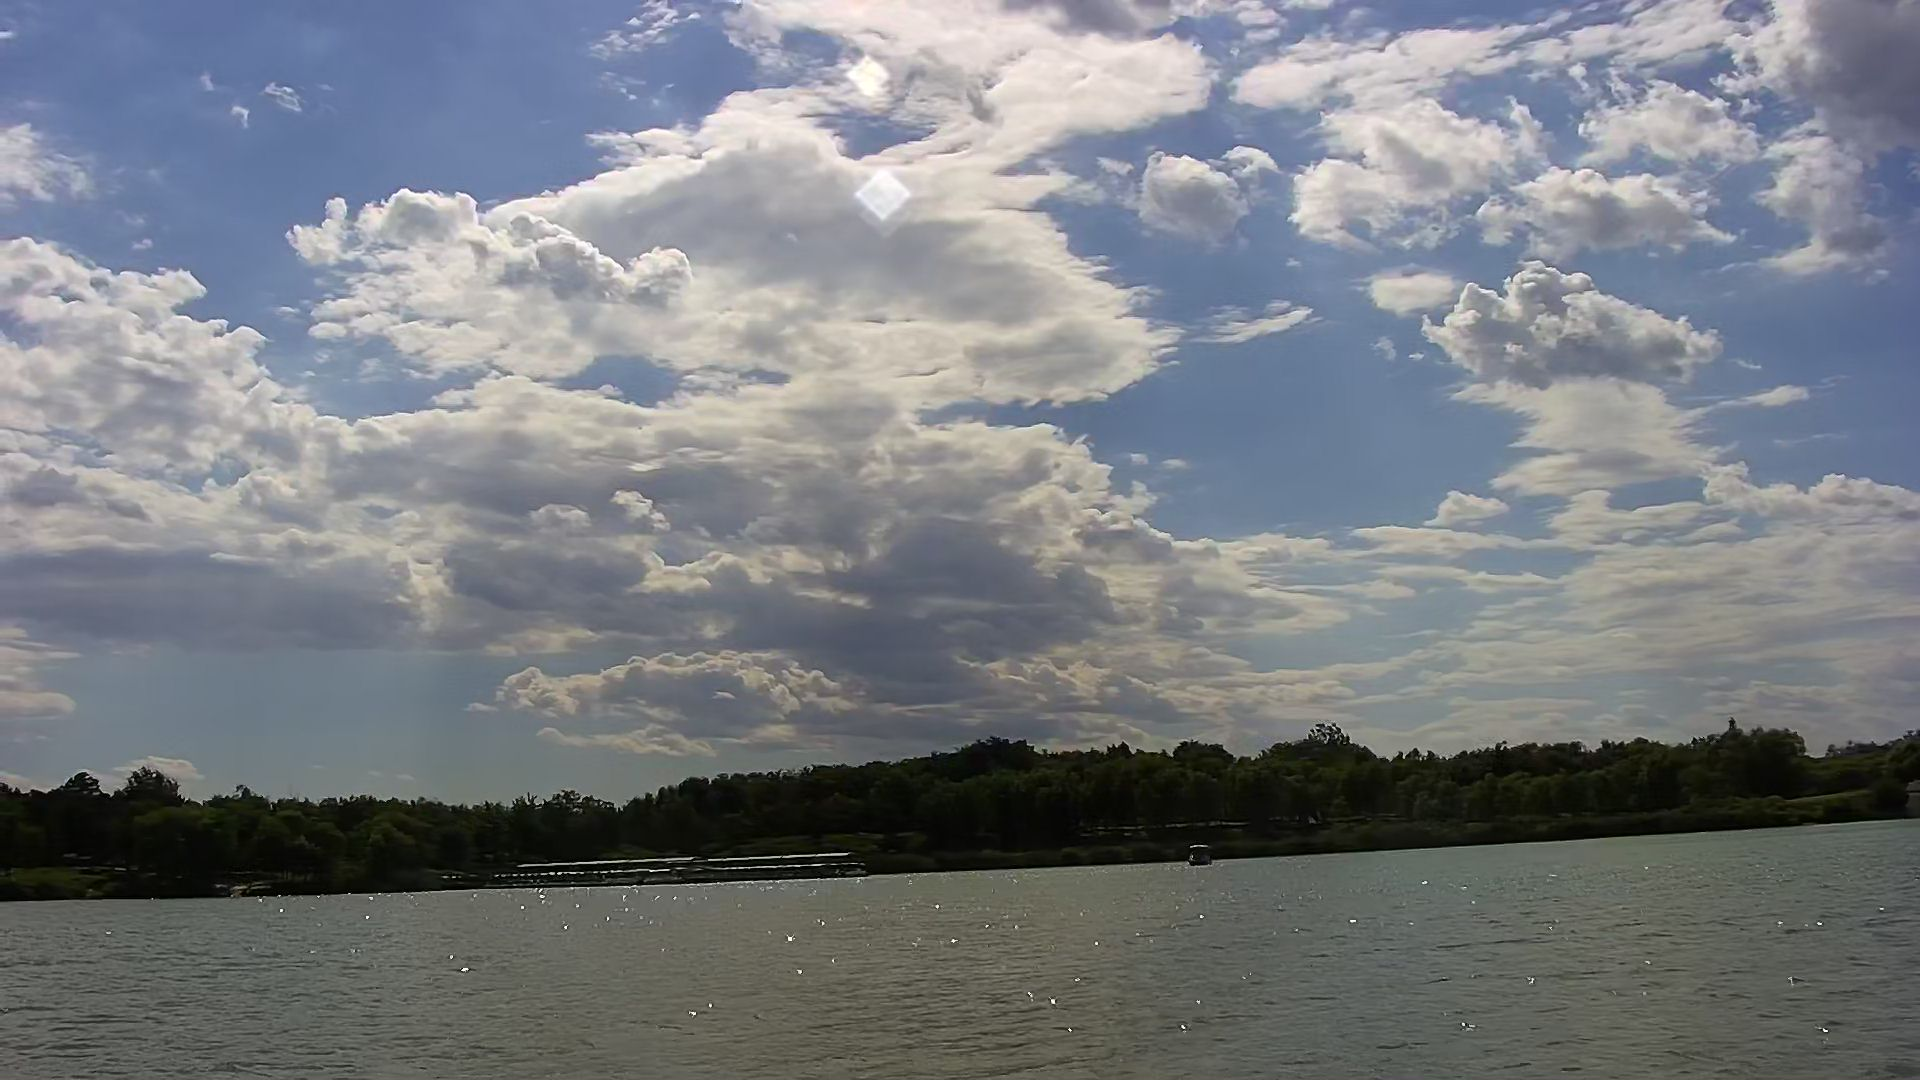boat: (1183, 837, 1217, 869)
harbor: (493, 851, 868, 891)
